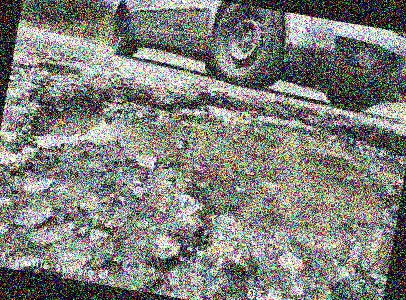pothole: (4, 52, 406, 288)
